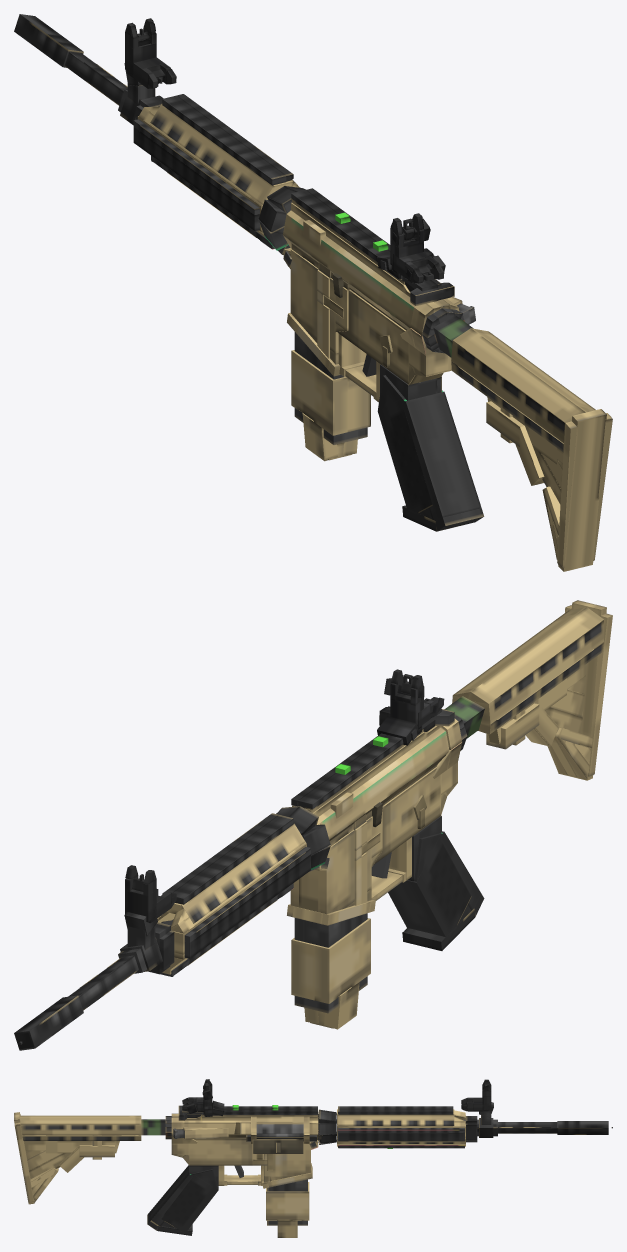
Rendered from m4a1mod1.fbx.
The picture shows the model from 3 angles, top to bottom: view 1: azimuth 30°, elevation 25°; view 2: azimuth 150°, elevation 25°; view 3: azimuth 270°, elevation 25°; orthographic projection. The views are drawn at different scales.
Visible parts, largest first — view 1: gun, magazine, bone4, bone5, bone2, rearsight, frontsight, rearsightflipped, frontsightflipped, bone6; view 2: gun, magazine, bone4, bone5, rearsight, frontsight, bone2, bone6, bone8; view 3: gun, magazine, bone5, bone4, bolt, bone2, bone7, frontsightflipped, rearsightflipped, frontsight, rearsight.
Boxes of the visible parts, x1=… form: gun: x1=14, y1=14, x2=612, y2=571; magazine: x1=291, y1=332, x2=370, y2=461; bone4: x1=151, y1=94, x2=293, y2=249; bone5: x1=133, y1=119, x2=300, y2=231; bone2: x1=287, y1=210, x2=462, y2=353; rearsight: x1=390, y1=213, x2=430, y2=265; frontsight: x1=125, y1=18, x2=156, y2=74; rearsightflipped: x1=393, y1=252, x2=445, y2=283; frontsightflipped: x1=127, y1=57, x2=176, y2=88; bone6: x1=258, y1=199, x2=291, y2=250; gun: x1=14, y1=600, x2=612, y2=1050; magazine: x1=291, y1=913, x2=370, y2=1029; bone4: x1=160, y1=813, x2=293, y2=976; bone5: x1=184, y1=847, x2=310, y2=958; rearsight: x1=384, y1=669, x2=424, y2=725; frontsight: x1=125, y1=865, x2=156, y2=922; bone2: x1=317, y1=715, x2=461, y2=824; bone6: x1=302, y1=824, x2=330, y2=869; bone8: x1=276, y1=806, x2=318, y2=835; gun: x1=14, y1=1100, x2=608, y2=1235; magazine: x1=266, y1=1179, x2=309, y2=1237; bone5: x1=338, y1=1128, x2=464, y2=1141; bone4: x1=338, y1=1106, x2=464, y2=1148; bolt: x1=256, y1=1124, x2=303, y2=1133; bone2: x1=165, y1=1113, x2=318, y2=1123; bone7: x1=318, y1=1122, x2=336, y2=1143; frontsightflipped: x1=461, y1=1097, x2=488, y2=1111; rearsightflipped: x1=182, y1=1097, x2=207, y2=1113; frontsight: x1=482, y1=1079, x2=491, y2=1110; rearsight: x1=202, y1=1079, x2=212, y2=1109.
Bounding box in the file's own units: 43.63 × 178 × 637.
